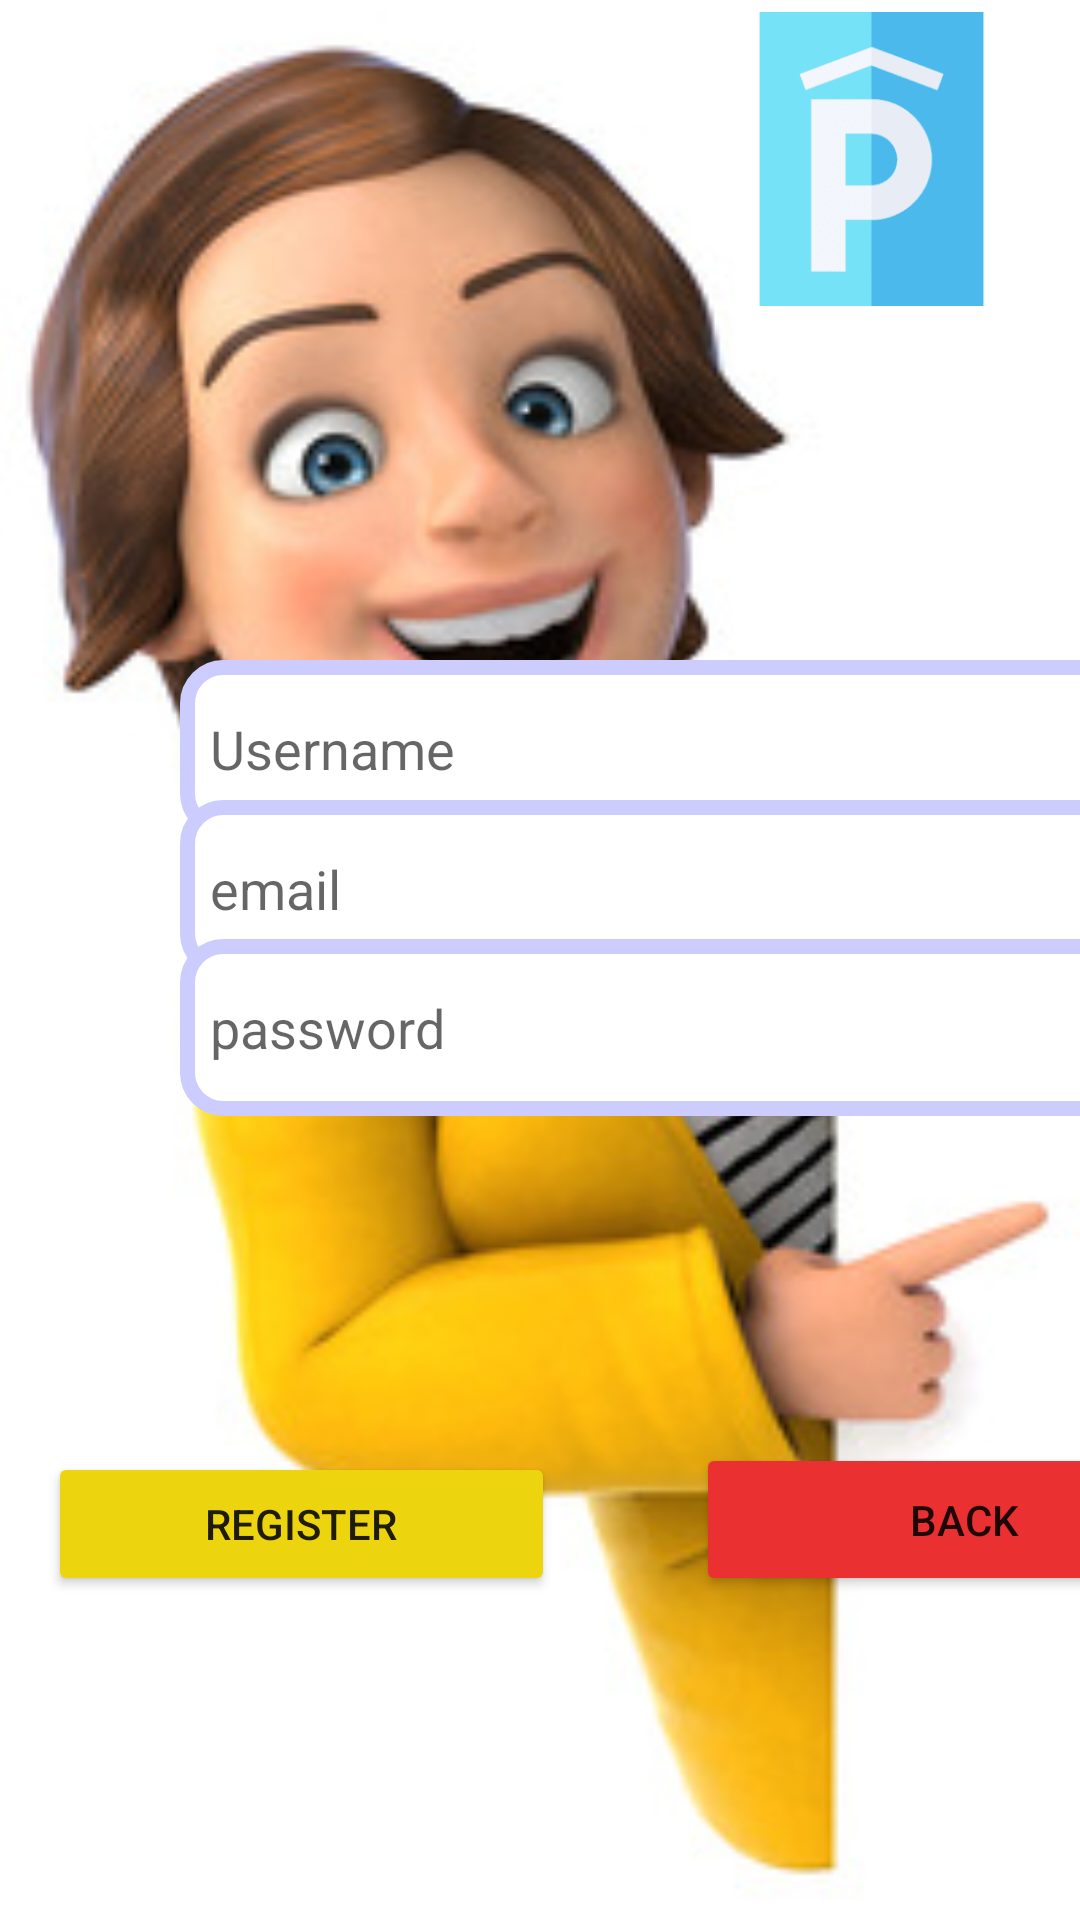

Locate icon controls on the screen. Image size 1080px×1920px, boxes as (x1, y1, x2, y2).
mainicons: (759, 12, 984, 306)
